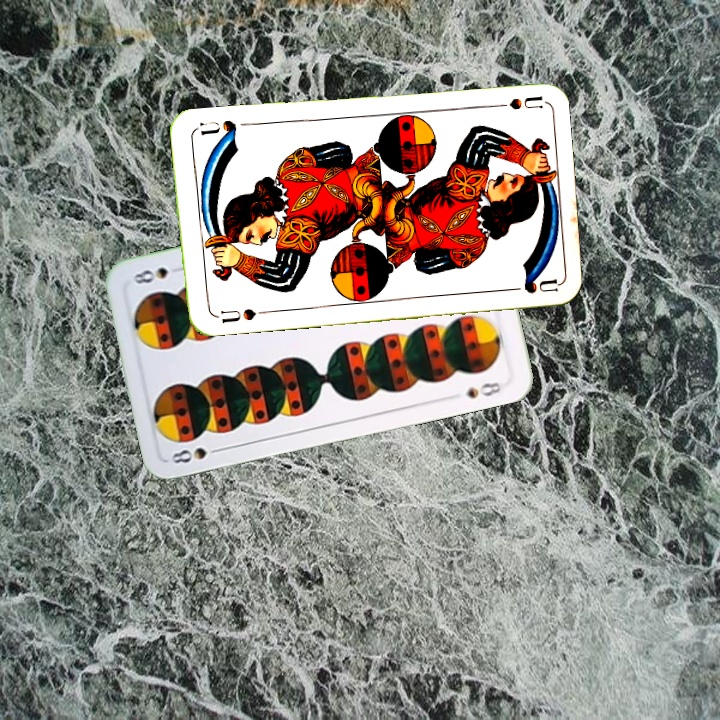S8: (167, 443, 226, 466)
SU: (210, 304, 269, 326), (483, 92, 543, 113)
